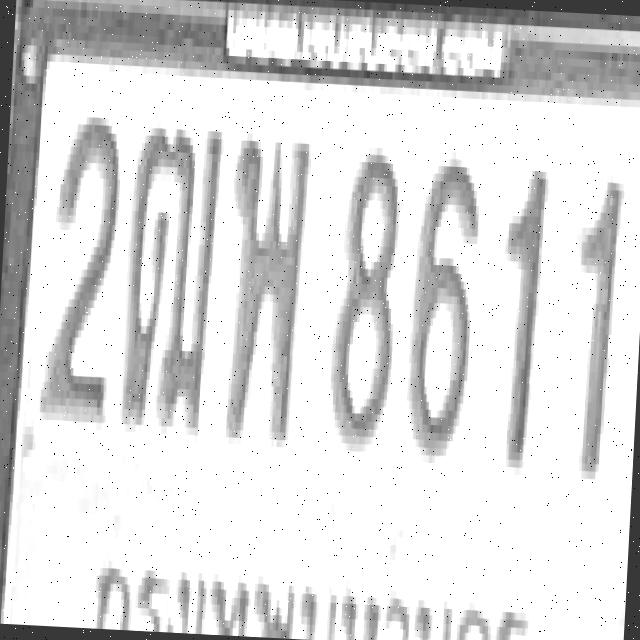1: (494, 162, 549, 469), (567, 169, 622, 476)
2: (41, 112, 122, 420)
27ThorPhuThao: (119, 115, 222, 432)
39PhorPan: (220, 124, 314, 440)
6: (404, 150, 482, 458)
8: (328, 142, 403, 450)
